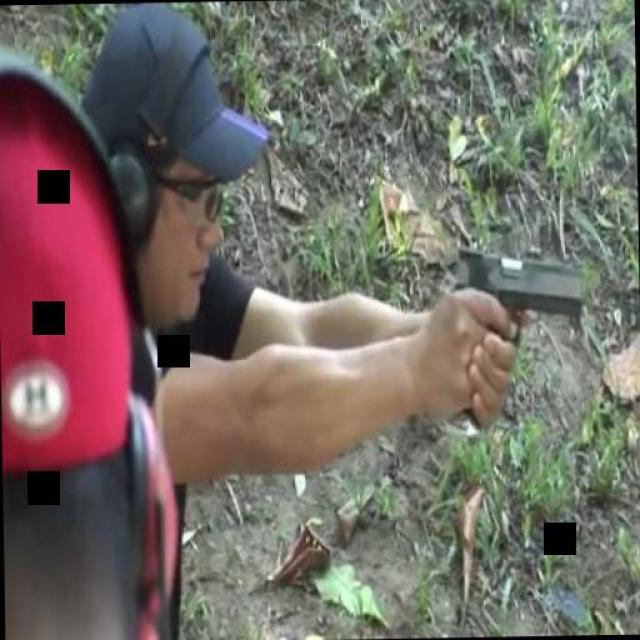gun: (448, 239, 588, 425)
